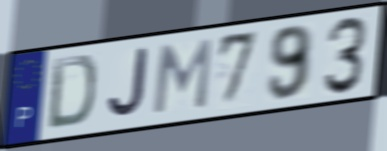3: (322, 14, 369, 97)
7: (215, 28, 262, 110)
9: (264, 22, 318, 103)
D: (45, 53, 99, 132)
J: (105, 46, 149, 122)
M: (150, 36, 215, 117)
